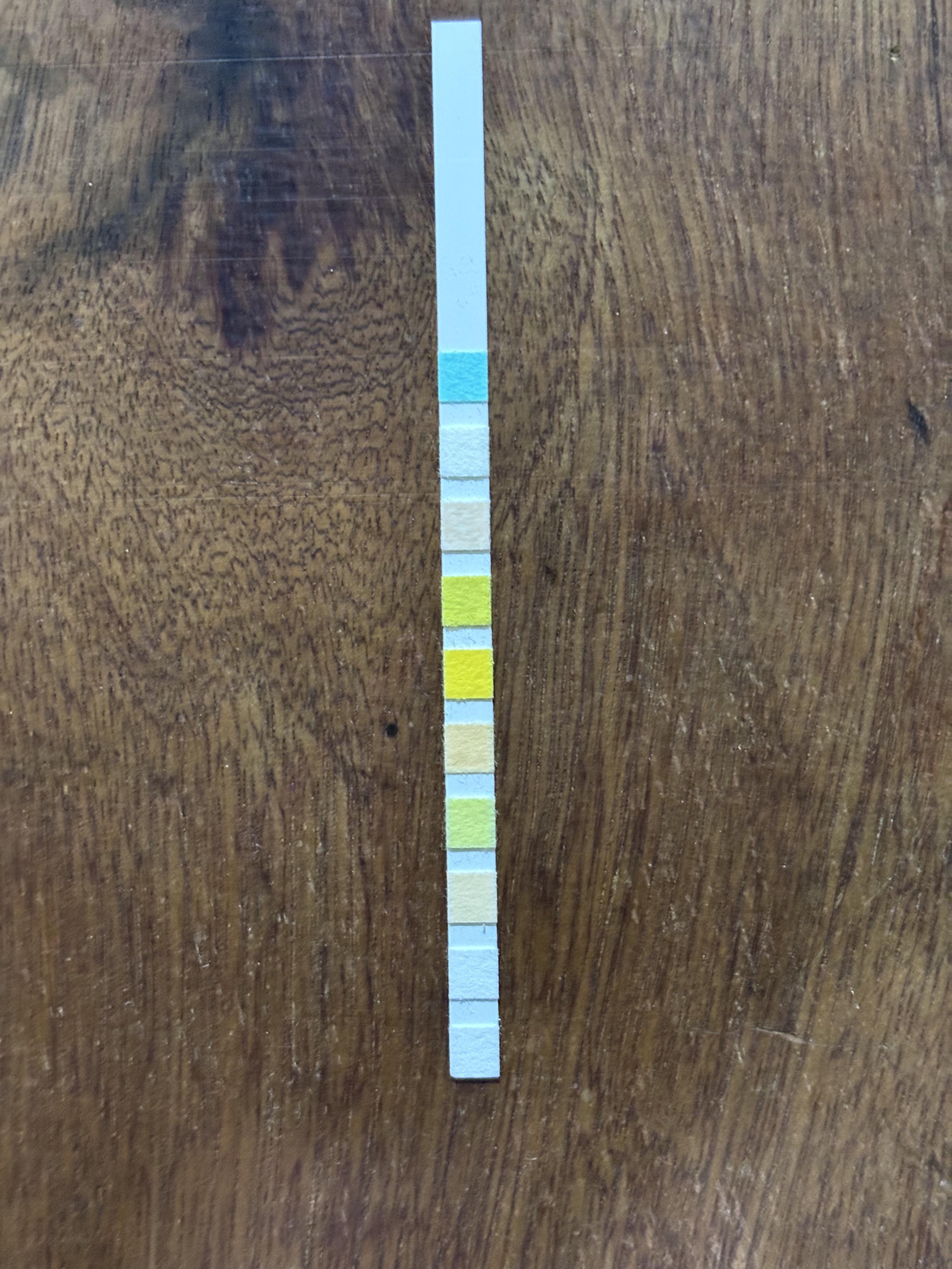Bilirubin: (440, 428, 490, 478)
Blood: (445, 652, 494, 698)
Glucose: (438, 355, 488, 402)
Ketone: (443, 502, 489, 550)
Leukocytes: (451, 1027, 499, 1078)
Nitrite: (447, 949, 498, 1000)
Protein: (446, 800, 495, 848)
SpGravity: (442, 581, 490, 627)
Urobilinogen: (448, 875, 498, 925)
pH: (445, 726, 493, 774)
strip: (432, 22, 500, 1079)
